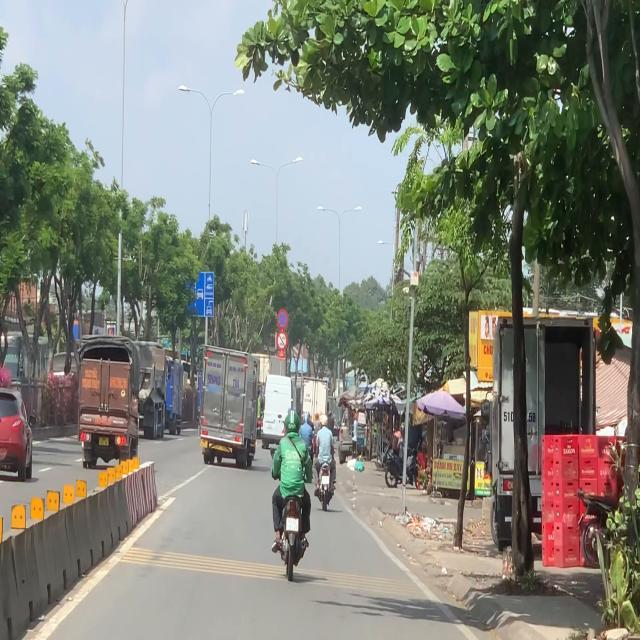Cam con lai: (276, 331, 288, 353)
Cam dung va do: (277, 309, 288, 330)
